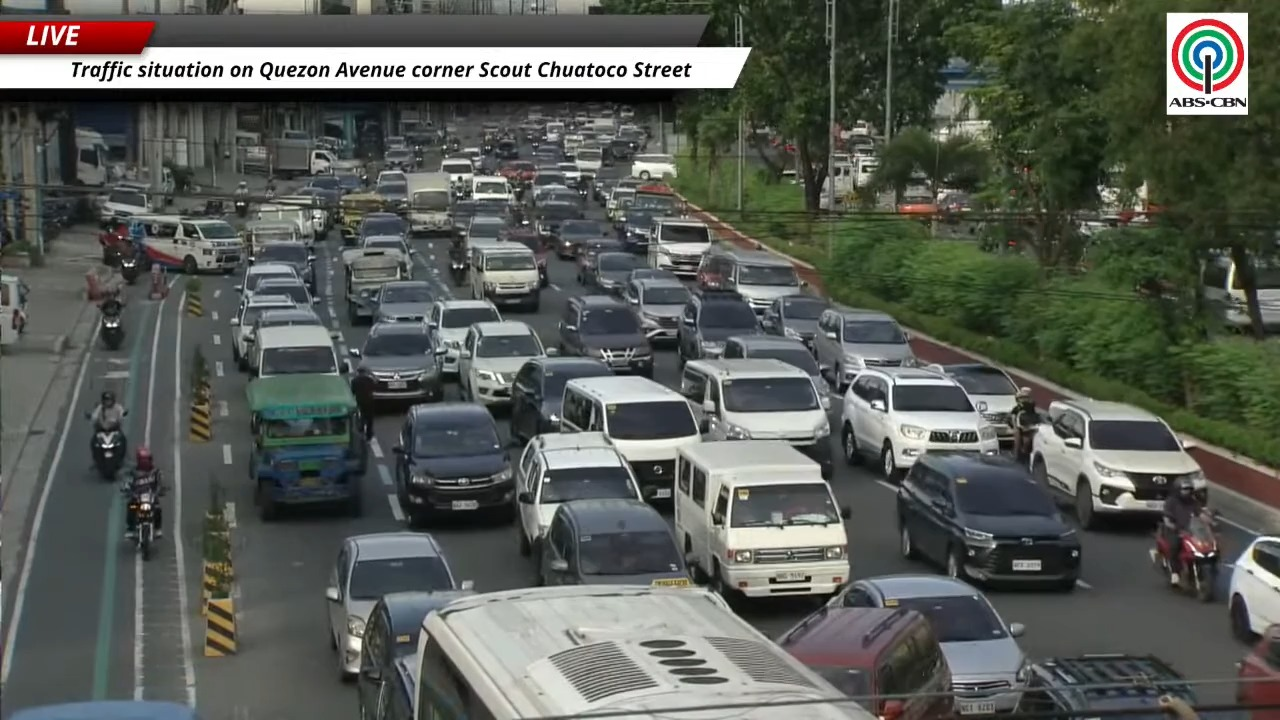bus: (414, 585, 875, 719)
car: (828, 574, 1026, 713), (896, 450, 1080, 591), (1031, 399, 1206, 528), (777, 606, 953, 719), (326, 531, 459, 678), (680, 359, 832, 479), (840, 367, 998, 482), (357, 581, 473, 719), (515, 433, 641, 556), (393, 402, 514, 526), (537, 499, 690, 586), (1017, 653, 1197, 716), (813, 307, 914, 393), (509, 357, 611, 442), (558, 295, 653, 376), (458, 320, 547, 405), (925, 364, 1016, 446), (348, 322, 442, 401), (697, 246, 806, 314), (677, 289, 759, 364), (1227, 535, 1280, 643), (427, 300, 501, 375), (244, 305, 324, 372), (230, 294, 295, 370), (722, 335, 822, 382), (623, 271, 688, 342), (1235, 626, 1279, 719), (762, 294, 830, 347), (253, 242, 317, 295), (501, 225, 548, 287), (234, 262, 300, 303), (374, 280, 434, 324), (584, 252, 642, 295), (360, 235, 417, 278), (551, 218, 609, 259), (576, 237, 625, 285), (530, 201, 582, 244), (618, 208, 666, 254), (254, 276, 317, 306), (356, 212, 407, 245), (465, 215, 508, 242), (631, 154, 677, 179), (535, 186, 582, 210), (451, 199, 479, 236), (374, 180, 407, 208), (383, 148, 415, 172), (628, 267, 678, 282), (332, 171, 364, 193), (592, 177, 617, 204), (494, 139, 519, 159), (375, 168, 406, 184)
motorcycle: (1150, 510, 1220, 601), (122, 486, 157, 560), (91, 424, 125, 481), (1009, 426, 1036, 466), (100, 313, 124, 350), (119, 256, 139, 285), (450, 259, 467, 286), (234, 198, 248, 218), (265, 186, 275, 200)
truck: (345, 250, 403, 325), (341, 235, 415, 278), (406, 173, 451, 234), (269, 138, 337, 178), (75, 127, 110, 186)
